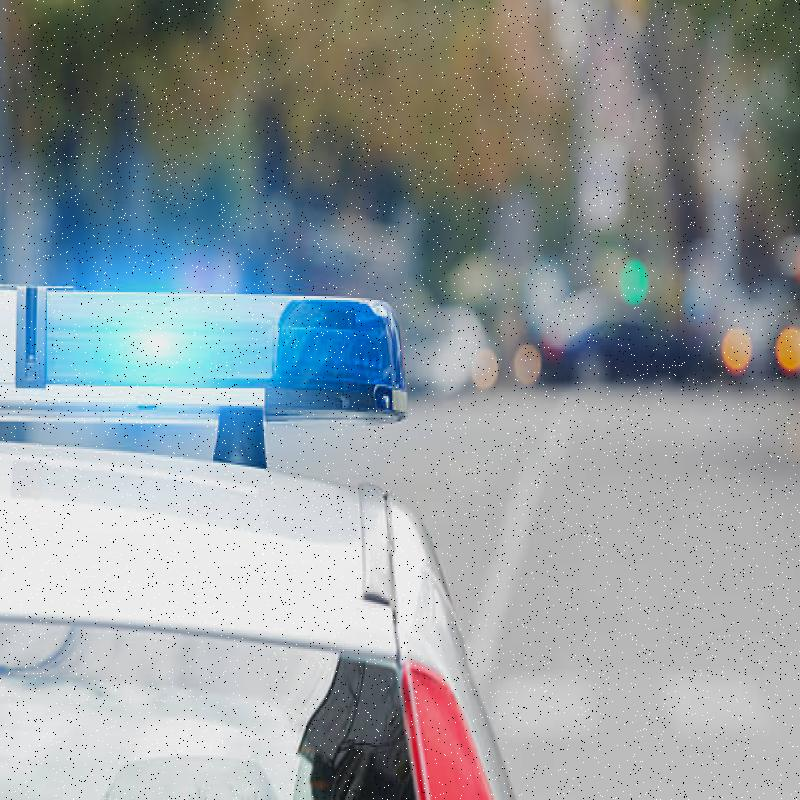AmbulanceSiren: (0, 228, 418, 489)
